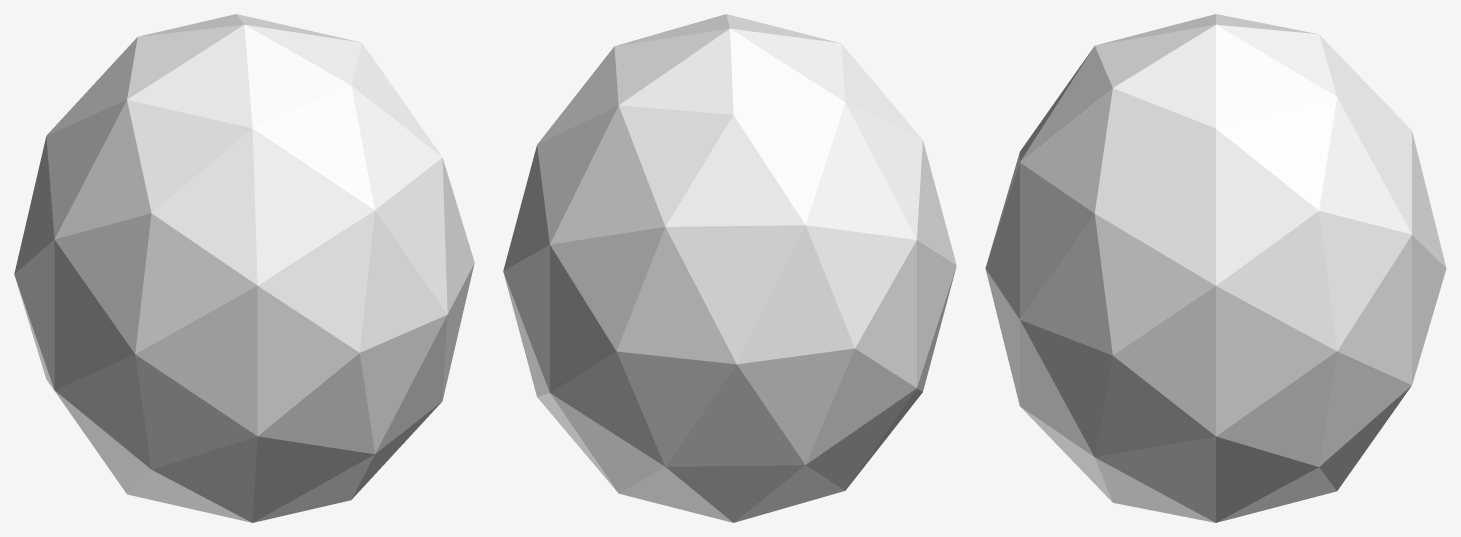
Rendered from IceJellyfishCore.obj.
3 renders of one model, left to right at view 1: azimuth 30°, elevation 25°; view 2: azimuth 150°, elevation 25°; view 3: azimuth 270°, elevation 25°, orthographic.
Parts seen in each view (by area): view 1: IceJellyfishCore; view 2: IceJellyfishCore; view 3: IceJellyfishCore.
Boxes of the visible parts, box(x1,y1,x2,y2) form: IceJellyfishCore: box(14, 14, 474, 522); IceJellyfishCore: box(503, 14, 956, 522); IceJellyfishCore: box(985, 14, 1446, 522).
Size of the model in its own units: 6.85 by 8.4 by 7.2.
Materials: 1 (1 with a texture image).
